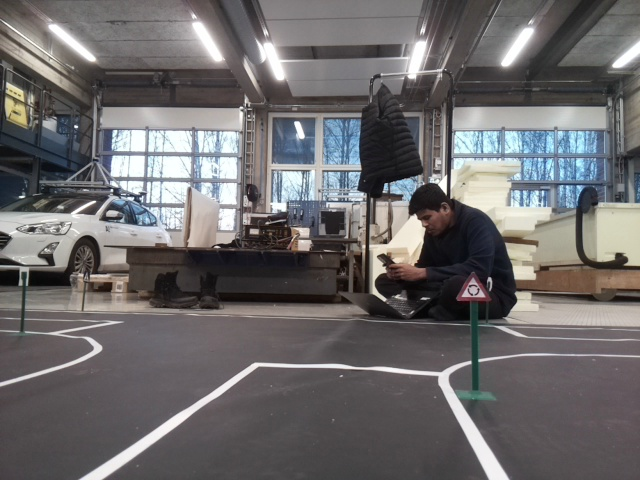Roundabout: (455, 270, 492, 303)
